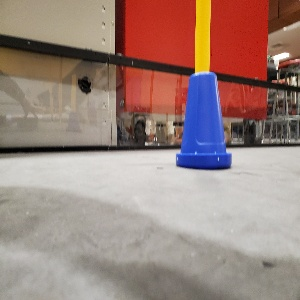Blue_1: (173, 70, 233, 170)
